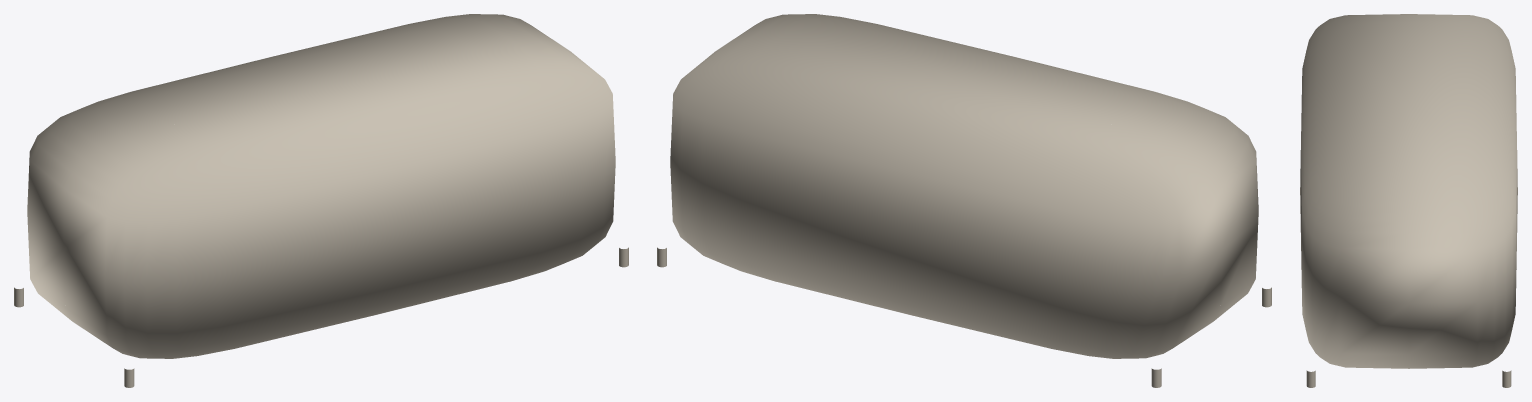
File: ikea-gronlid-40384932-g2-proxy.glb
The picture shows the model from 3 angles, left to right: view 1: azimuth 30°, elevation 25°; view 2: azimuth 150°, elevation 25°; view 3: azimuth 270°, elevation 25°; orthographic projection. The views are drawn at different scales.
Parts seen in each view (by area): view 1: proxy_body; view 2: proxy_body; view 3: proxy_body.
Boxes of the visible parts, x1,y1,x2,y2 form: proxy_body: [27, 14, 615, 358]; proxy_body: [670, 14, 1258, 358]; proxy_body: [1300, 14, 1517, 368].
Size of the model in its own units: 2.38 by 0.87 by 0.98.
